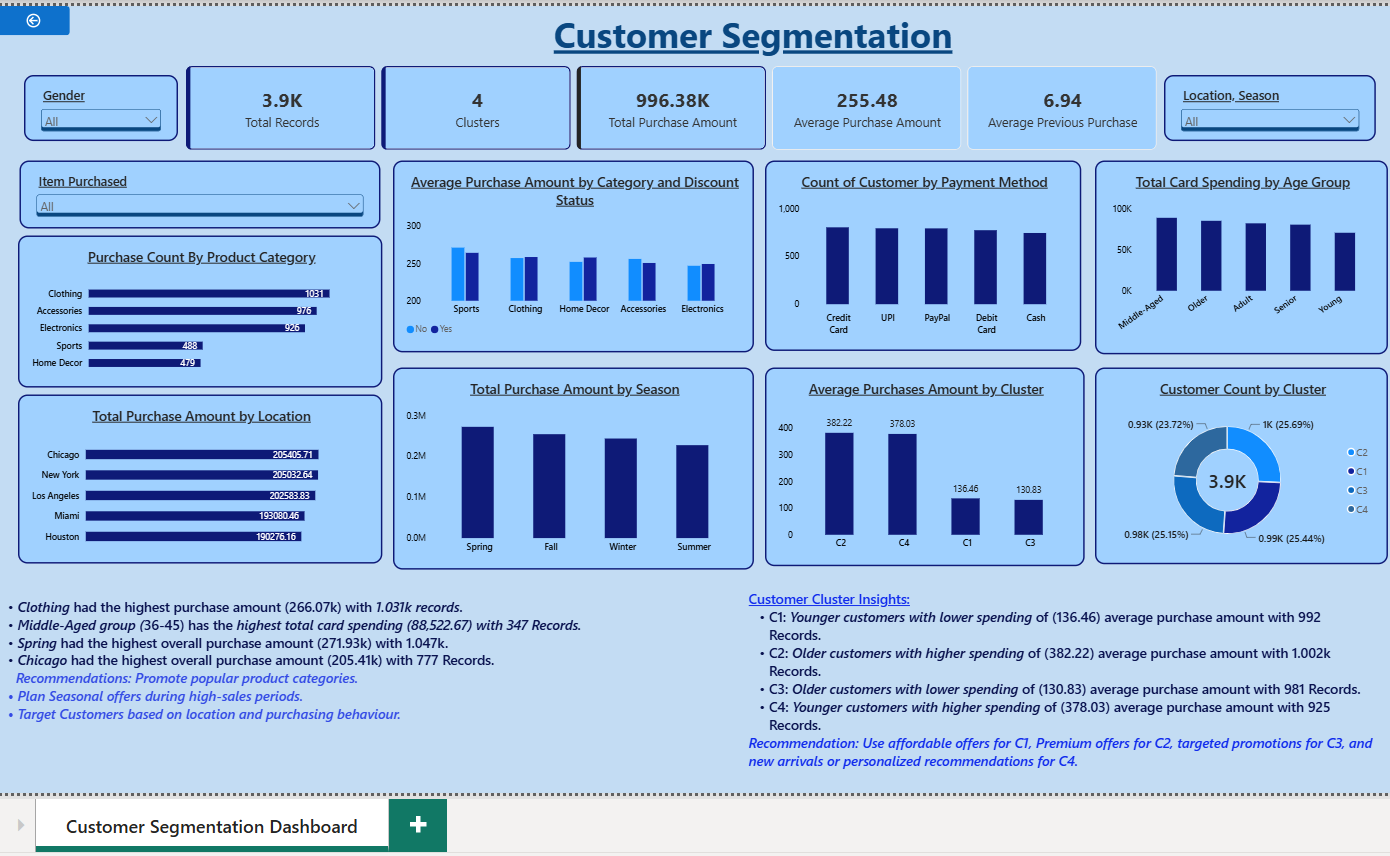

The dashboard page shown, as its layout file describes it:
{"tool":"powerbi","page":{"name":"Customer Segmentation Dashboard","canvas":[1920,1080],"ordinal":0},"visuals":[{"type":"clusteredColumnChart","title":"Average Purchase Amount by Category and Discount Status","fields":{"Category":["CustomerSegmentationInternship.cleaned_category"],"Series":["CustomerSegmentationInternship.DiscountApplied"],"Y":["Avg(CustomerSegmentationInternship.PurchaseAmountUSD)"]},"box":[542.8,211.2,495.1,263.5],"z":0},{"type":"clusteredBarChart","title":"Purchase Count By Product Category","fields":{"Category":["CustomerSegmentationInternship.cleaned_category"],"Y":["CountNonNull(CustomerSegmentationInternship.CustomerID)"]},"box":[29.5,315.7,499.7,209],"z":1000},{"type":"cardVisual","fields":{"Data":["CountNonNull(CustomerSegmentationInternship.CustomerID)","Count(Clusters.Cluster)","Sum(CustomerSegmentationInternship.PurchaseAmountUSD)","CustomerSegmentationInternship.Average Purchase Amount","CustomerSegmentationInternship.Average Previous Purchase"]},"box":[258.9,81.8,1333.3,115.8],"z":2000},{"type":"slicer","fields":{"Values":["CustomerSegmentationInternship.Location","CustomerSegmentationInternship.Season"]},"box":[1601.3,95.4,290.7,90.9],"z":3000},{"type":"donutChart","title":"Customer Count by Cluster","fields":{"Category":["Clusters.Cluster"],"Y":["CountNonNull(CustomerSegmentationInternship.CustomerID)"]},"box":[1505.9,495.1,402,270.3],"z":4000},{"type":"clusteredColumnChart","title":"Total Card Spending by Age Group","fields":{"Category":["CustomerSegmentationInternship.AgeGroup"],"Y":["Sum(CustomerSegmentationInternship.PurchaseAmountUSD)"]},"box":[1505.9,211.2,402,265.7],"z":5000},{"type":"clusteredColumnChart","title":"Count of Customer by Payment Method ","fields":{"Category":["CustomerSegmentationInternship.PaymentMethod"],"Y":["CountNonNull(CustomerSegmentationInternship.CustomerID)"]},"box":[1053.9,211.2,433.8,261.2],"z":6000},{"type":"clusteredColumnChart","title":"Total Purchase Amount by Season","fields":{"Category":["CustomerSegmentationInternship.Season"],"Y":["Sum(CustomerSegmentationInternship.PurchaseAmountUSD)"]},"box":[542.8,495.1,495.1,277.1],"z":7000},{"type":"slicer","fields":{"Values":["CustomerSegmentationInternship.Gender"]},"box":[36.3,95.4,211.2,90.9],"z":8000},{"type":"clusteredColumnChart","title":"Average Purchases Amount by Cluster","fields":{"Category":["Clusters.Cluster"],"Y":["CustomerSegmentationInternship.Average Purchase Amount"]},"box":[1053.9,495.1,438.4,272.6],"z":9000},{"type":"clusteredBarChart","title":"Total Purchase Amount by Location","fields":{"Category":["CustomerSegmentationInternship.Location"],"Y":["Sum(CustomerSegmentationInternship.PurchaseAmountUSD)"]},"box":[29.5,533.8,499.7,231.7],"z":10000},{"type":"textbox","box":[729.1,6.8,617.8,75],"z":12000},{"type":"textbox","box":[0,772.2,931.2,306.6],"z":13000},{"type":"slicer","fields":{"Values":["CustomerSegmentationInternship.ItemPurchased"]},"box":[31.8,211.2,495.1,93.1],"z":14000},{"type":"textbox","box":[1053.9,992.6,854,68.1],"z":15000},{"type":"tableEx","fields":{"Values":["Clusters.Cluster","Clusters.CustomerID","CustomerSegmentationInternship.Average Purchase Amount","Sum(CustomerSegmentationInternship.PurchaseAmountUSD)","CustomerSegmentationInternship.Average Age"]},"box":[1053.9,788.1,854,224.9],"z":16000}]}

Visuals, with their boxes on the page's 1920x1080 design canvas (x1, y1, x2, y2). These are canvas units, not pixel positions in the 1390x856 screenshot, which may show the page scaled, cropped or inside an application window:
"Average Purchase Amount by Category and Discount Status" clusteredColumnChart: <region>543, 211, 1038, 475</region>
"Purchase Count By Product Category" clusteredBarChart: <region>30, 316, 529, 525</region>
cardVisual - CountNonNull(CustomerSegmentationInternship.CustomerID) x Count(Clusters.Cluster): <region>259, 82, 1592, 198</region>
slicer - CustomerSegmentationInternship.Location x CustomerSegmentationInternship.Season: <region>1601, 95, 1892, 186</region>
"Customer Count by Cluster" donutChart: <region>1506, 495, 1908, 765</region>
"Total Card Spending by Age Group" clusteredColumnChart: <region>1506, 211, 1908, 477</region>
"Count of Customer by Payment Method " clusteredColumnChart: <region>1054, 211, 1488, 472</region>
"Total Purchase Amount by Season" clusteredColumnChart: <region>543, 495, 1038, 772</region>
slicer - CustomerSegmentationInternship.Gender: <region>36, 95, 248, 186</region>
"Average Purchases Amount by Cluster" clusteredColumnChart: <region>1054, 495, 1492, 768</region>
"Total Purchase Amount by Location" clusteredBarChart: <region>30, 534, 529, 766</region>
textbox: <region>729, 7, 1347, 82</region>
textbox: <region>0, 772, 931, 1079</region>
slicer - CustomerSegmentationInternship.ItemPurchased: <region>32, 211, 527, 304</region>
textbox: <region>1054, 993, 1908, 1061</region>
tableEx - Clusters.Cluster x Clusters.CustomerID: <region>1054, 788, 1908, 1013</region>
